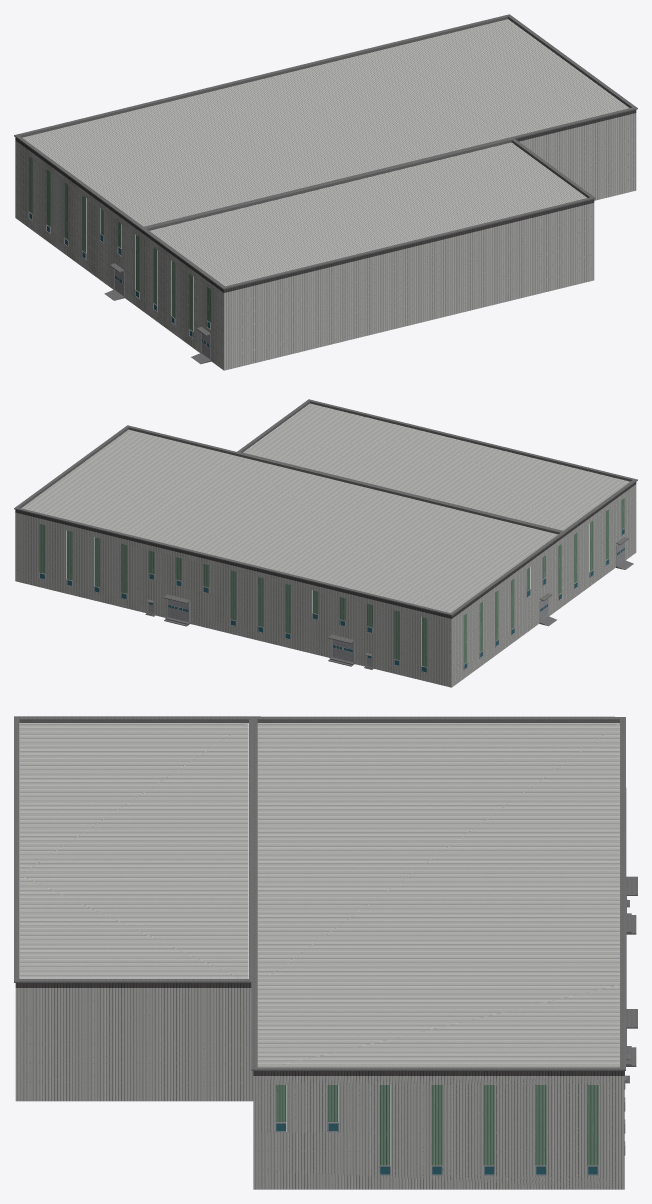
The model's file is 制砖间.glb.
3 views of the same model, one above another, from view 1: azimuth 30°, elevation 25°; view 2: azimuth 150°, elevation 25°; view 3: azimuth 270°, elevation 25° (orthographic). The views are drawn at different scales.
Visible parts, largest first — view 1: 制砖间00, 制砖间01, 制砖间02, 制砖间03, 制砖间04; view 2: 制砖间00, 制砖间01, 制砖间03, 制砖间04, 制砖间02, 制砖间05; view 3: 制砖间00, 制砖间01, 制砖间03, 制砖间02, 制砖间04, 制砖间05.
Boxes of the visible parts, bbox=[...] form: 制砖间00: bbox=[15, 19, 636, 370]; 制砖间01: bbox=[14, 14, 637, 364]; 制砖间02: bbox=[15, 110, 636, 292]; 制砖间03: bbox=[29, 156, 210, 331]; 制砖间04: bbox=[28, 211, 210, 359]; 制砖间00: bbox=[15, 403, 636, 687]; 制砖间01: bbox=[14, 399, 637, 669]; 制砖间03: bbox=[39, 498, 624, 666]; 制砖间04: bbox=[39, 527, 625, 673]; 制砖间02: bbox=[15, 482, 636, 618]; 制砖间05: bbox=[40, 527, 624, 672]; 制砖间00: bbox=[15, 723, 624, 1189]; 制砖间01: bbox=[14, 716, 637, 1083]; 制砖间03: bbox=[275, 1085, 598, 1165]; 制砖间02: bbox=[15, 983, 624, 1075]; 制砖间04: bbox=[275, 896, 626, 1175]; 制砖间05: bbox=[276, 1122, 597, 1174].
Size of the model in its own units: 97.98 by 15.41 by 71.85.
Materials: 6 (6 with a texture image).
